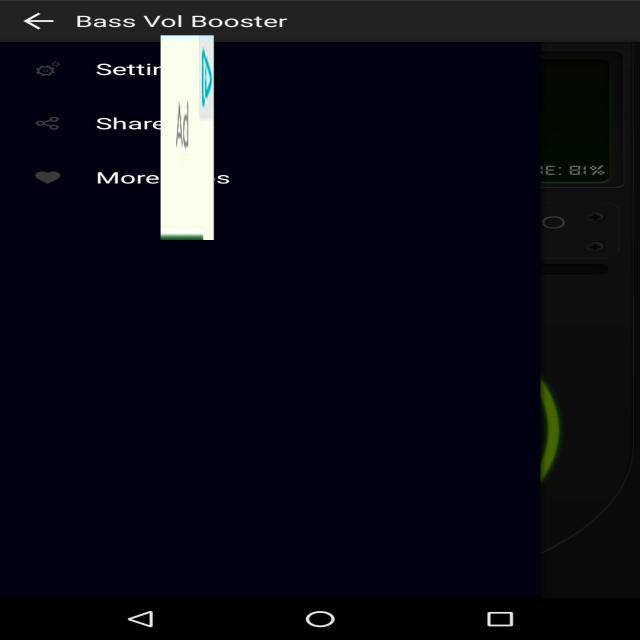sneaking: (160, 35, 214, 240)
